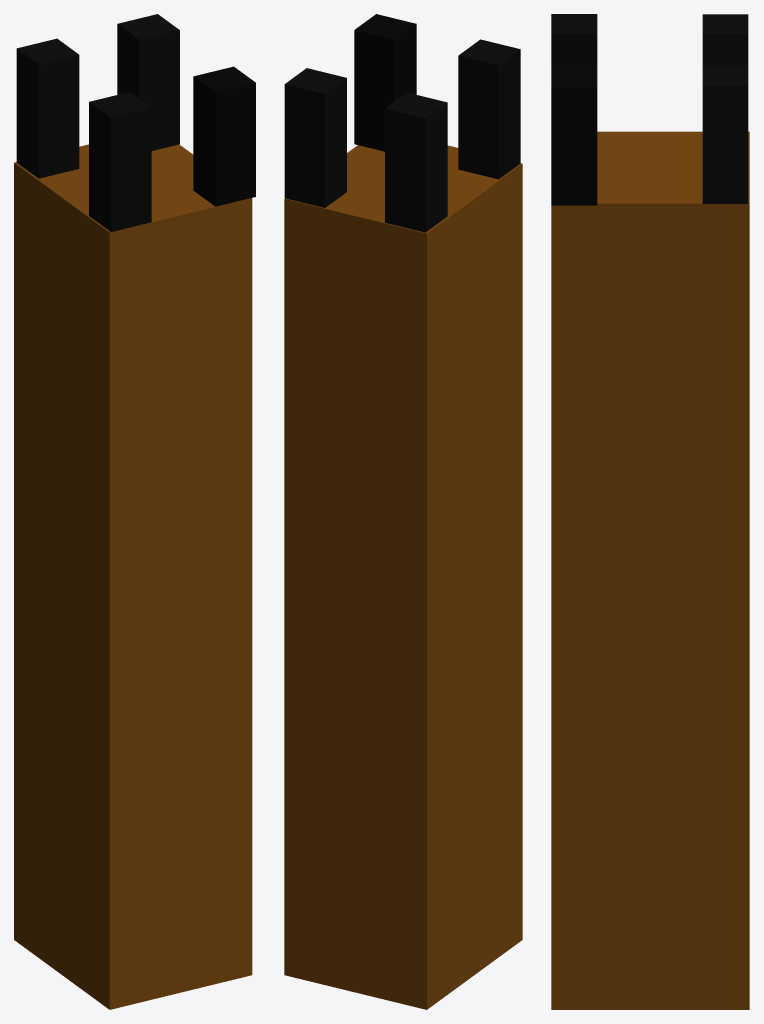
Rendered from Без имени.fbx.
3 views of the same model, side by side, from view 1: azimuth 30°, elevation 25°; view 2: azimuth 150°, elevation 25°; view 3: azimuth 270°, elevation 25° (orthographic). The views are drawn at different scales.
Parts seen in each view (by area): view 1: Куб, Куб.002, Куб.003, Куб.004, Куб.001; view 2: Куб, Куб.002, Куб.003, Куб.001, Куб.004; view 3: Куб, Куб.004, Куб.001, Куб.003, Куб.002.
Boxes of the visible parts, <box> form: Куб: <box>14,144,252,1009</box>; Куб.002: <box>16,38,79,178</box>; Куб.003: <box>89,92,151,231</box>; Куб.004: <box>193,66,255,206</box>; Куб.001: <box>117,14,179,150</box>; Куб: <box>284,145,522,1009</box>; Куб.002: <box>385,92,447,232</box>; Куб.003: <box>458,39,520,179</box>; Куб.001: <box>284,68,346,207</box>; Куб.004: <box>354,14,416,151</box>; Куб: <box>551,131,749,1009</box>; Куб.004: <box>551,66,597,205</box>; Куб.001: <box>702,65,748,203</box>; Куб.003: <box>551,14,597,66</box>; Куб.002: <box>702,14,748,64</box>.
Bounding box in the file's own units: 6.29 × 36.63 × 7.13.
